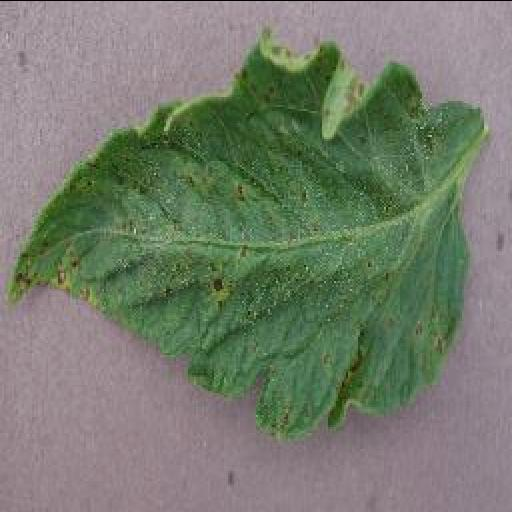disease_tomato: (8, 34, 488, 436)
